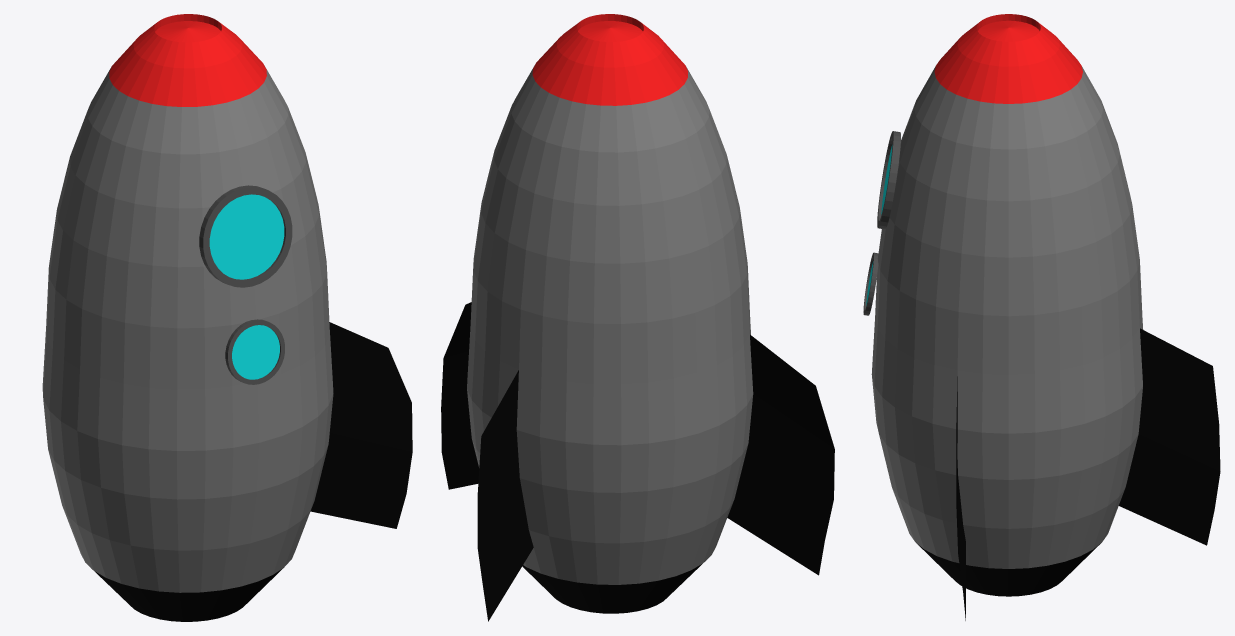
File: foguetepowerup .fbx
3 renders of one model, left to right at view 1: azimuth 30°, elevation 25°; view 2: azimuth 150°, elevation 25°; view 3: azimuth 270°, elevation 25°, orthographic. The views are drawn at different scales.
Visible parts, largest first — view 1: Cilindro; view 2: Cilindro; view 3: Cilindro.
Boxes of the visible parts, x1,y1,x2,y2 form: Cilindro: (42, 14, 412, 621); Cilindro: (441, 14, 834, 621); Cilindro: (863, 14, 1220, 620).
Bounding box in the file's own units: 329 × 449 × 267.
